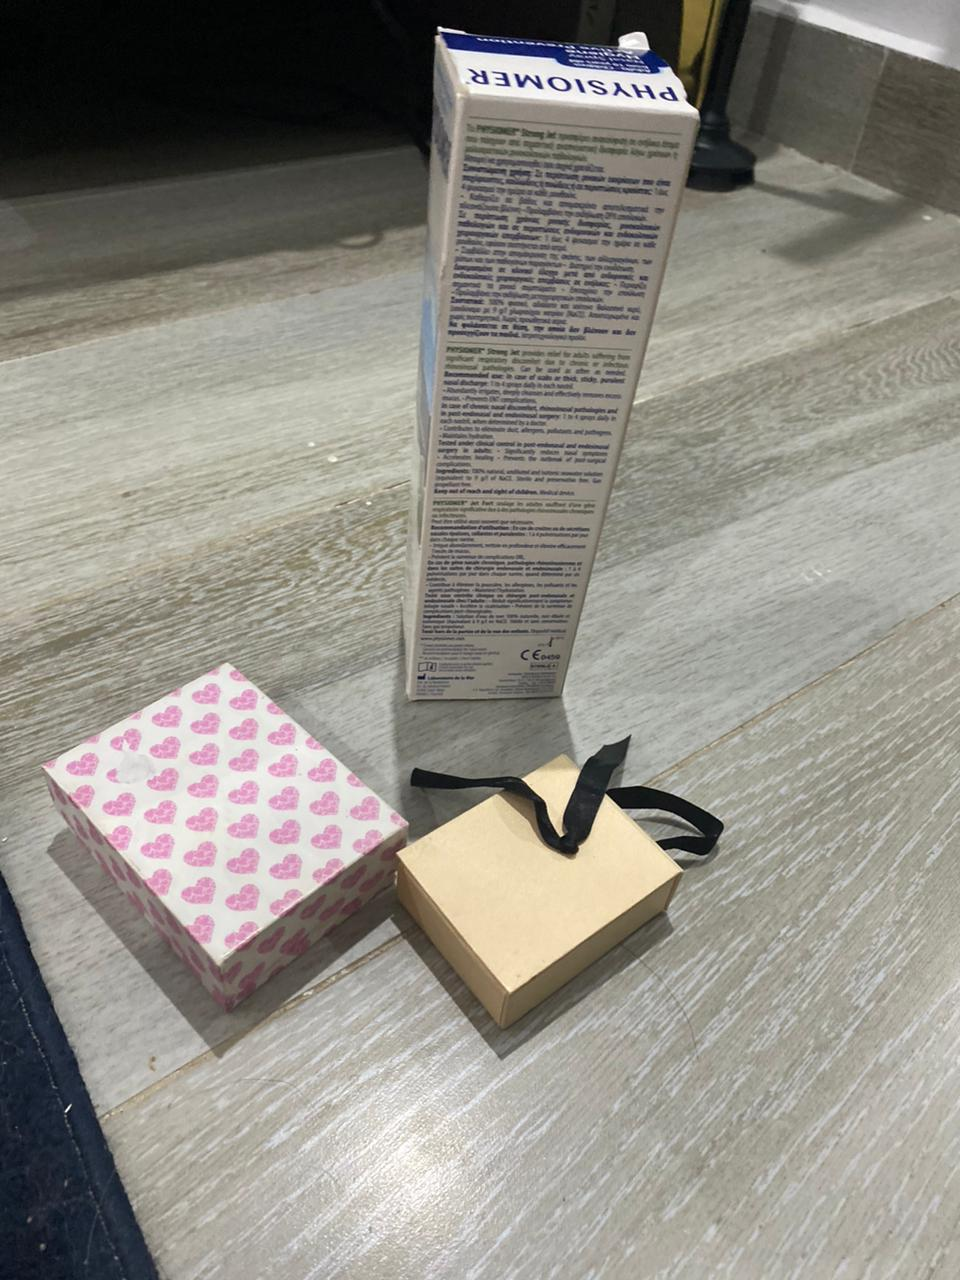Physiomer: (399, 20, 706, 711)
Pink Box: (42, 657, 416, 1012)
Yellow Box: (398, 752, 695, 1031)
